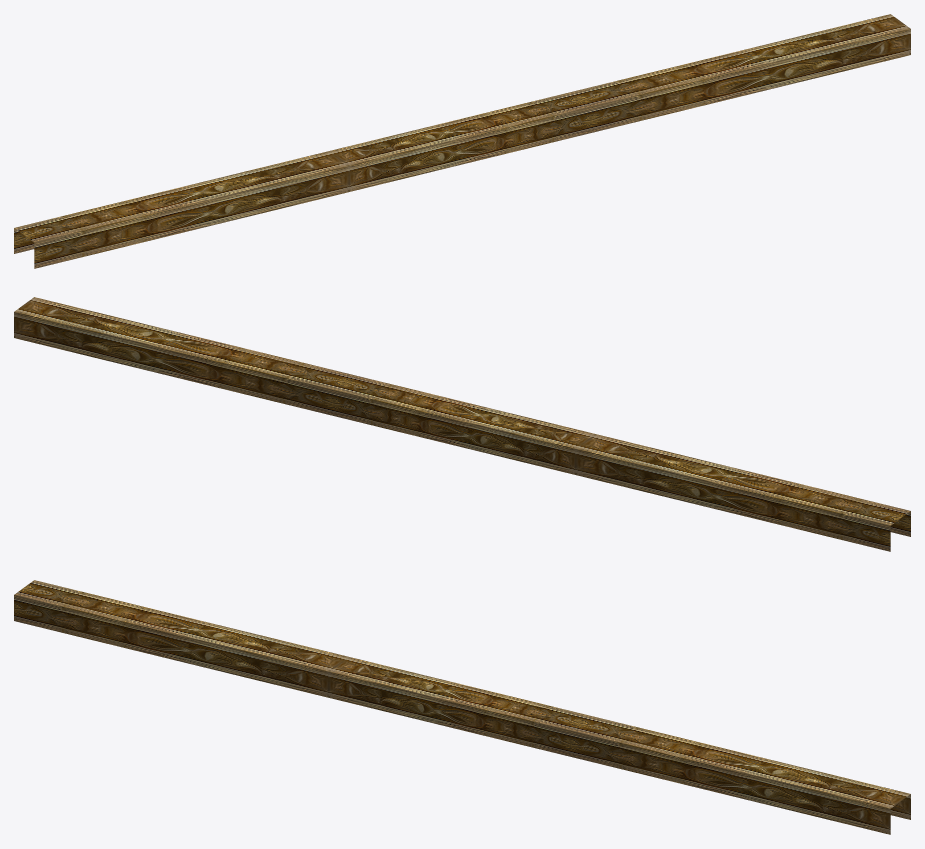
Rendered from S_Build_City209.FBX.
3 views of the same model, one above another, from view 1: azimuth 30°, elevation 25°; view 2: azimuth 150°, elevation 25°; view 3: azimuth 330°, elevation 25° (orthographic).
Parts seen in each view (by area): view 1: S_Build_City209; view 2: S_Build_City209; view 3: S_Build_City209.
Boxes of the visible parts, x1=… form: S_Build_City209: x1=14, y1=14, x2=910, y2=268; S_Build_City209: x1=14, y1=297, x2=910, y2=551; S_Build_City209: x1=14, y1=580, x2=910, y2=834.
Bounding box in the file's own units: 2167 × 61.72 × 86.92.
